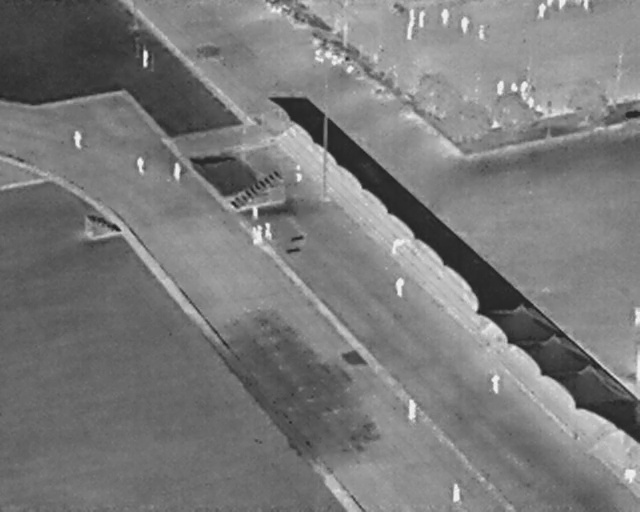DontCare: (308, 35, 358, 74)
Person: (394, 276, 405, 297), (408, 399, 417, 423), (73, 130, 83, 151), (491, 374, 501, 395), (295, 163, 304, 184), (136, 156, 145, 175), (264, 222, 273, 241), (461, 16, 470, 35), (537, 3, 547, 20), (173, 162, 181, 183), (256, 224, 264, 243), (633, 306, 640, 327), (418, 10, 426, 28), (406, 22, 414, 40), (142, 49, 149, 69), (453, 483, 460, 503), (520, 80, 528, 97), (441, 9, 449, 25), (408, 9, 416, 25), (497, 80, 504, 98), (251, 227, 257, 246), (478, 25, 485, 40), (511, 82, 519, 94), (527, 96, 534, 109), (583, 0, 591, 11), (559, 0, 567, 9), (547, 0, 553, 8)
